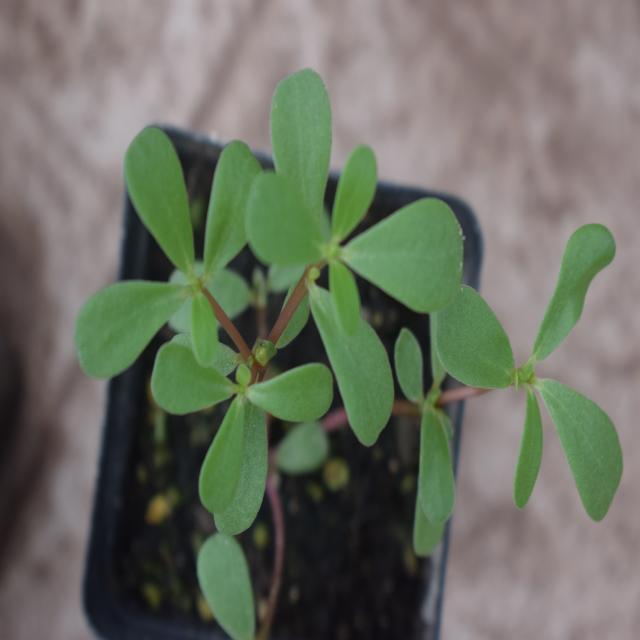purslane: (75, 80, 628, 538)
